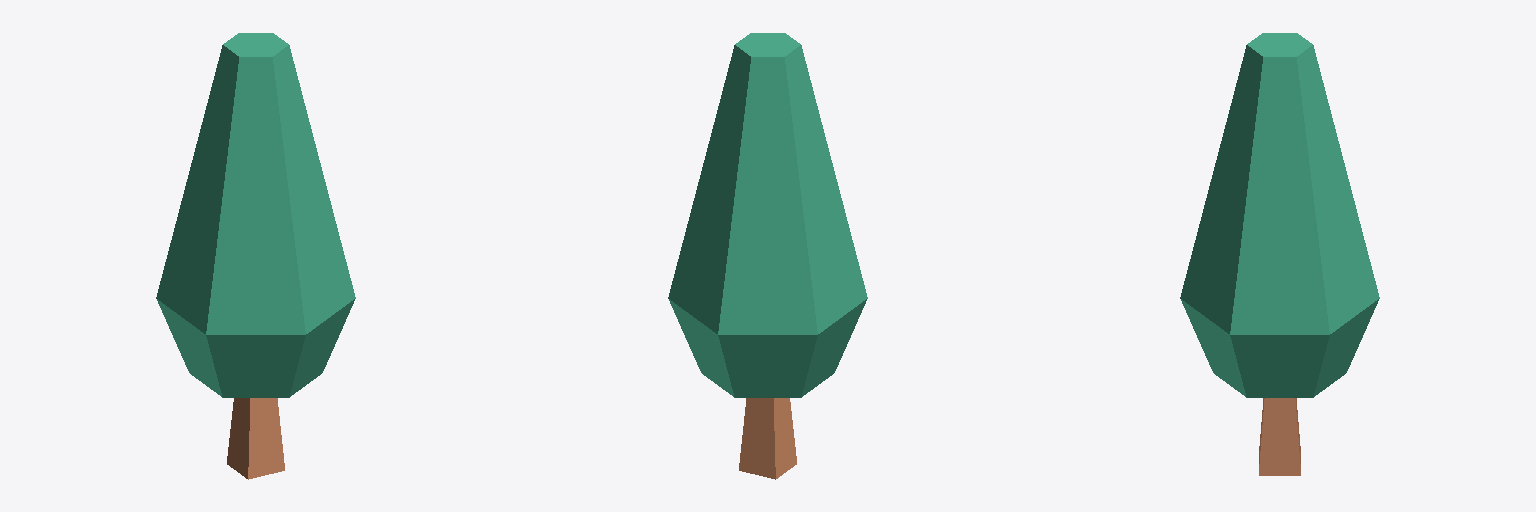
File: tree_small.obj
3 renders of one model, left to right at view 1: azimuth 30°, elevation 25°; view 2: azimuth 150°, elevation 25°; view 3: azimuth 270°, elevation 25°, orthographic.
Visible parts, largest first — view 1: tree_small; view 2: tree_small; view 3: tree_small.
Boxes of the visible parts, <box> form: tree_small: <box>156,33,355,479</box>; tree_small: <box>668,33,867,479</box>; tree_small: <box>1180,33,1379,475</box>.
Size of the model in its own units: 0.2104 by 0.567 by 0.243.